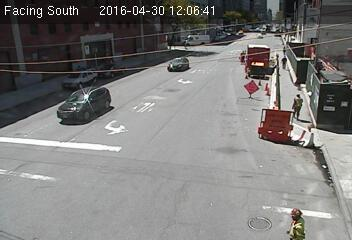neg: (74, 85, 99, 119), (108, 55, 125, 77), (259, 76, 273, 95), (235, 46, 248, 65)
pos: (281, 203, 308, 239), (287, 89, 309, 118), (277, 53, 292, 73)
